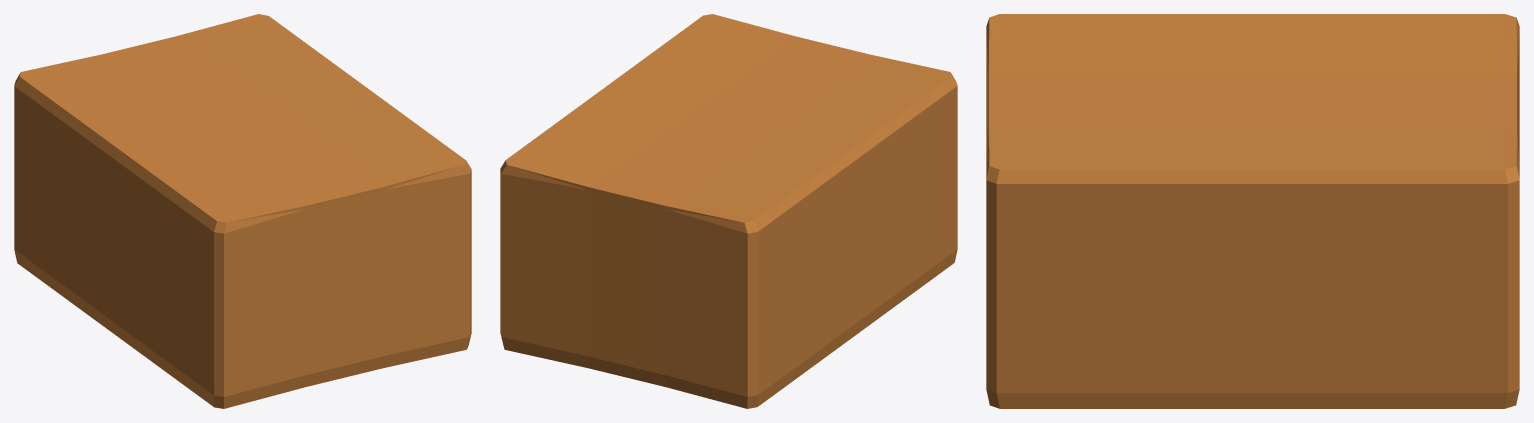
File: Prop_Junk_Cardboard_Box_03.FBX
3 renders of one model, left to right at view 1: azimuth 30°, elevation 25°; view 2: azimuth 150°, elevation 25°; view 3: azimuth 270°, elevation 25°, orthographic. The views are drawn at different scales.
Visible parts, largest first — view 1: Prop_Junk_Cardboard_Box_03; view 2: Prop_Junk_Cardboard_Box_03; view 3: Prop_Junk_Cardboard_Box_03.
Boxes of the visible parts, <box> form: Prop_Junk_Cardboard_Box_03: <box>14,14,471,408</box>; Prop_Junk_Cardboard_Box_03: <box>500,14,957,408</box>; Prop_Junk_Cardboard_Box_03: <box>986,14,1519,408</box>.
Size of the model in its own units: 450 by 310 by 630.
